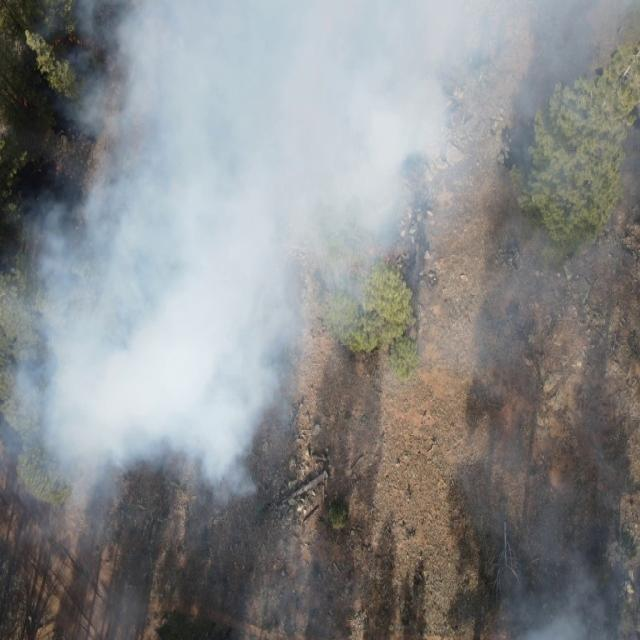fire: (366, 244, 394, 264), (66, 32, 86, 46), (350, 260, 364, 276), (20, 94, 30, 108), (50, 38, 61, 50), (54, 161, 64, 174)
smoke: (37, 0, 640, 380), (464, 379, 640, 640), (38, 380, 286, 542), (210, 545, 346, 640), (3, 193, 38, 548), (85, 571, 146, 640)
